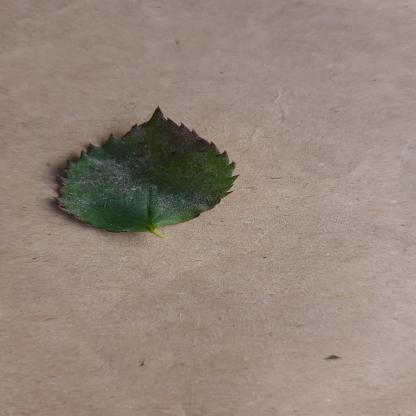powdery-mildew: (49, 106, 246, 233)
